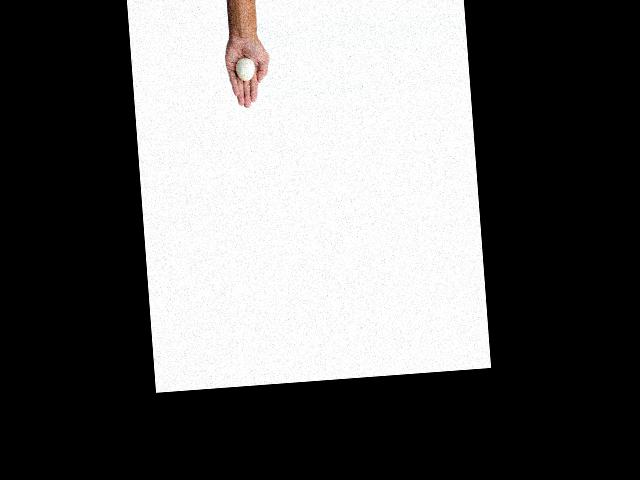egg: (235, 57, 255, 82)
